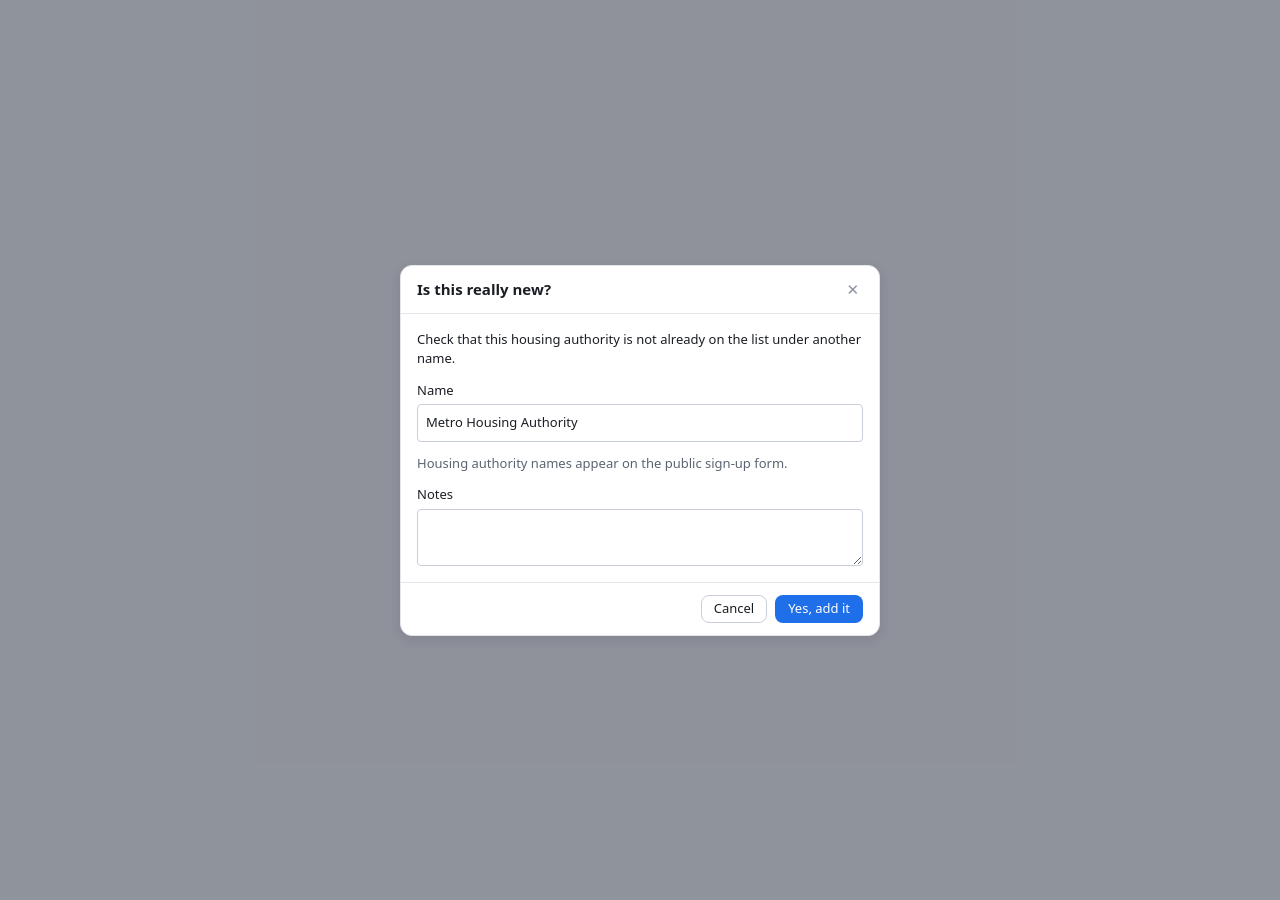
NewOrgDialog ("Is this really new?") › a refused add shows the mapped copy, never the raw code
Click the button "Yes, add it".
click(819, 608)  # box [775,594,863,622]
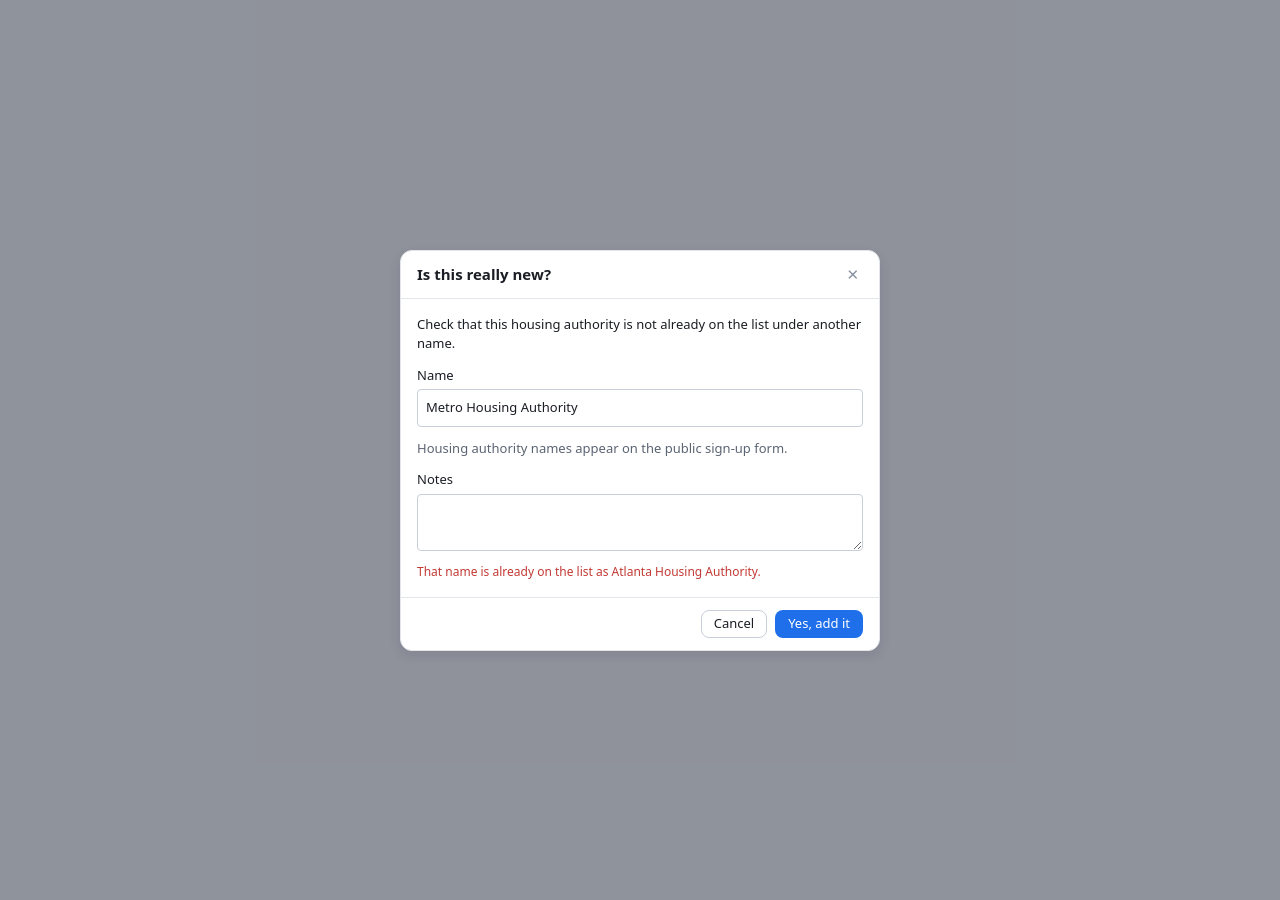
expect the message reads "That name is already on the list as Atlanta Housing Authority.": met, box [417,562,761,580]
